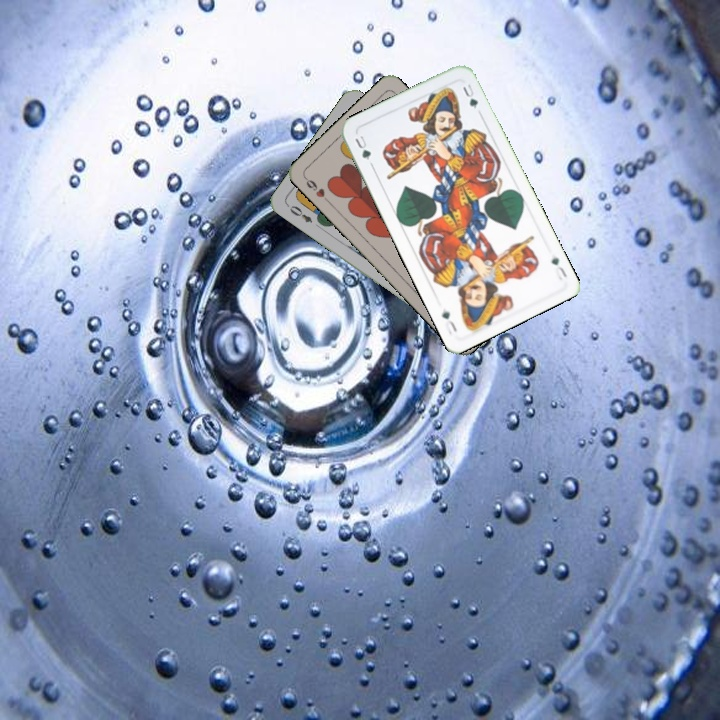EO: (286, 201, 315, 225)
GU: (351, 131, 374, 163), (547, 253, 570, 283)
H9: (300, 173, 332, 206)
